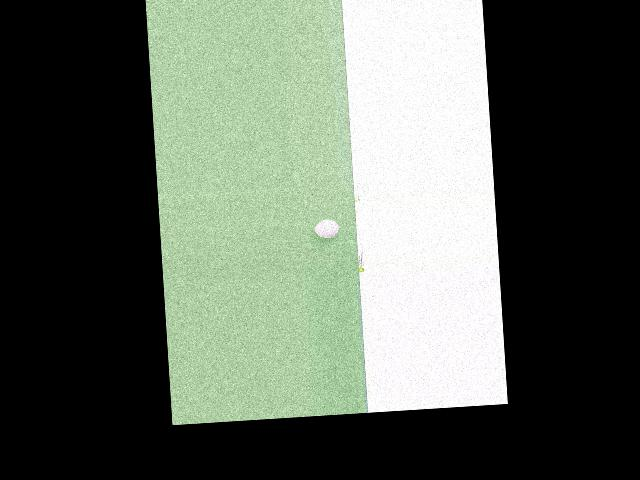egg: (314, 218, 339, 238)
